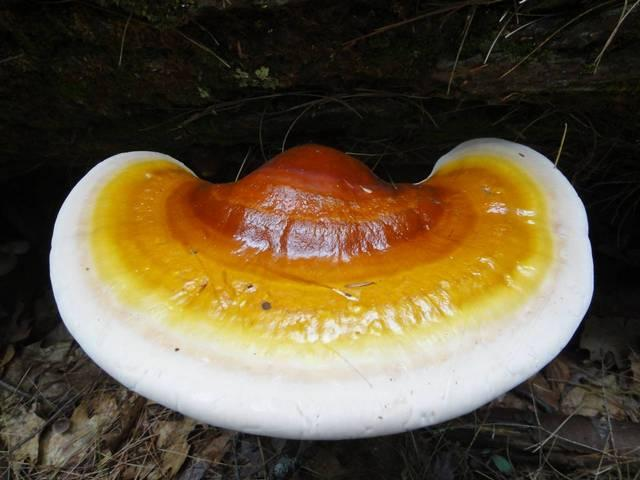poisonous_mushroom: (47, 135, 596, 441)
